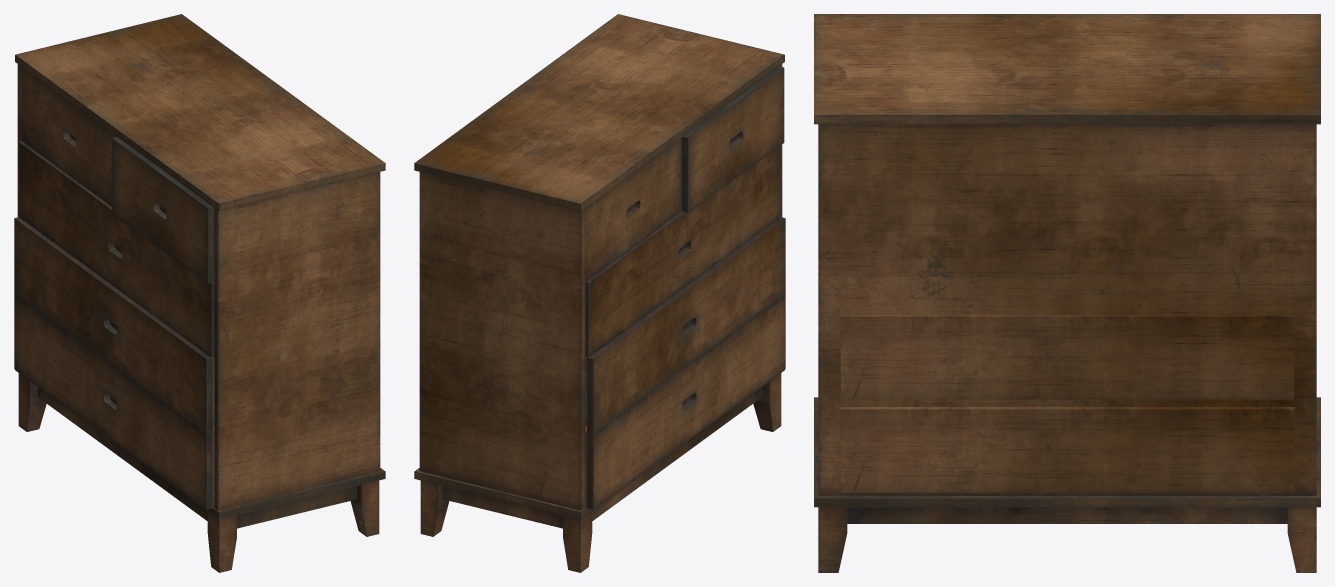
File: S_DrawerA.fbx
3 views of the same model, side by side, from view 1: azimuth 30°, elevation 25°; view 2: azimuth 150°, elevation 25°; view 3: azimuth 270°, elevation 25° (orthographic). The views are drawn at different scales.
Visible parts, largest first — view 1: S_DrawerA, S_DrawerA_Set; view 2: S_DrawerA, S_DrawerA_Set; view 3: S_DrawerA, S_DrawerA_Set.
Part boxes in pixels (left/top/right/bottom): S_DrawerA: left=14, top=64, right=385, bottom=572; S_DrawerA_Set: left=15, top=14, right=385, bottom=210; S_DrawerA: left=414, top=64, right=785, bottom=572; S_DrawerA_Set: left=414, top=14, right=784, bottom=210; S_DrawerA: left=814, top=124, right=1320, bottom=572; S_DrawerA_Set: left=814, top=14, right=1320, bottom=124.
Bounding box in the file's own units: 21.3 × 43.55 × 43.41.
